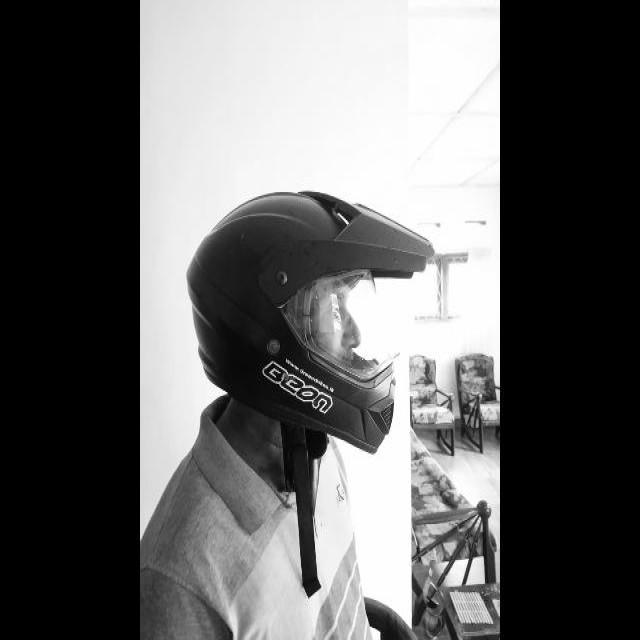5_casco: (186, 190, 434, 454)
